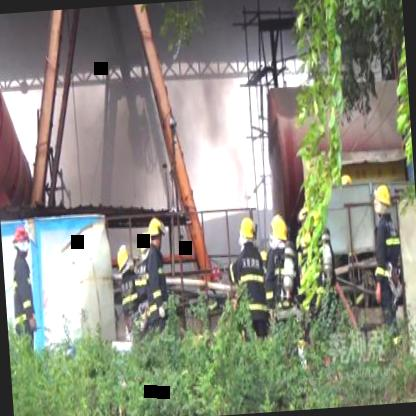helmet: (268, 207, 290, 255), (370, 180, 392, 224), (10, 224, 35, 262), (147, 215, 166, 252), (116, 244, 135, 280), (238, 216, 258, 250), (138, 228, 154, 260)
